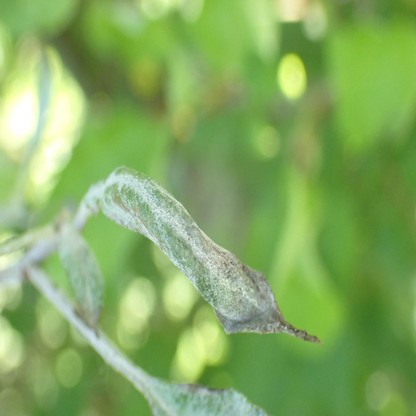powdery_mildew: (83, 165, 322, 344), (149, 380, 269, 416), (60, 231, 104, 321)
